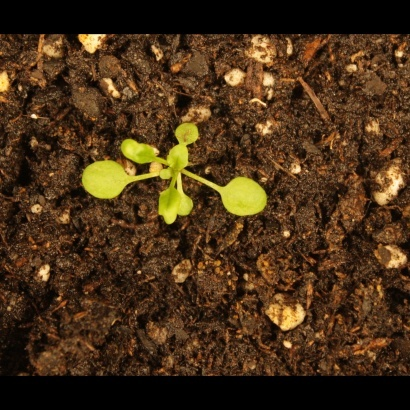leaf: (77, 156, 133, 204), (218, 174, 275, 221), (155, 185, 187, 230), (120, 134, 157, 170), (160, 144, 197, 174), (170, 117, 205, 148), (169, 189, 199, 222)
